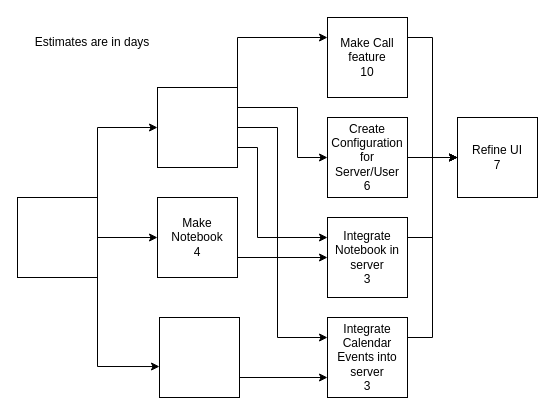
Some shapes in this 555 by 415 pixel diagram are drawn without their labels. The shapes that lost their labels are listed below. From the top down, each one's centre as x and y in pixels, then its label:
(197,127): Make Account feature 7
(57,237): Make chat server 7
(199,357): Make Calendar 4
